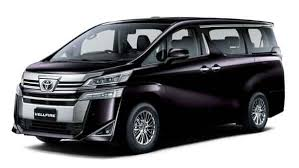Toyota: (14, 20, 272, 139)
